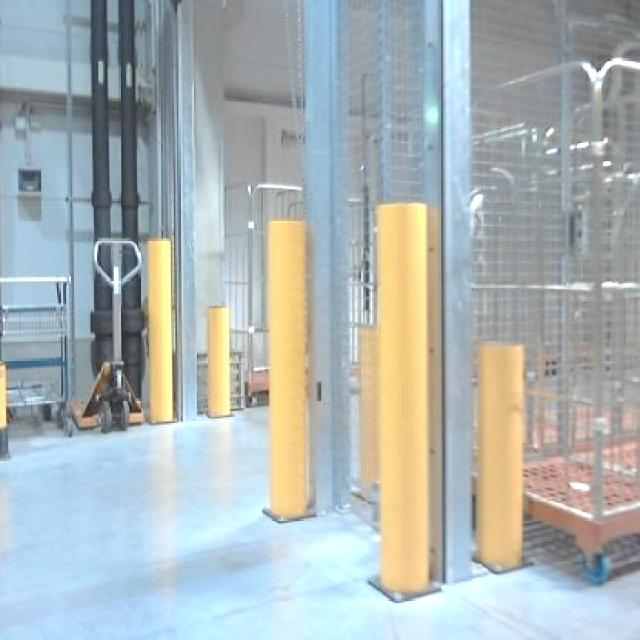floor: (0, 408, 637, 637)
pallets: (0, 379, 6, 455)
